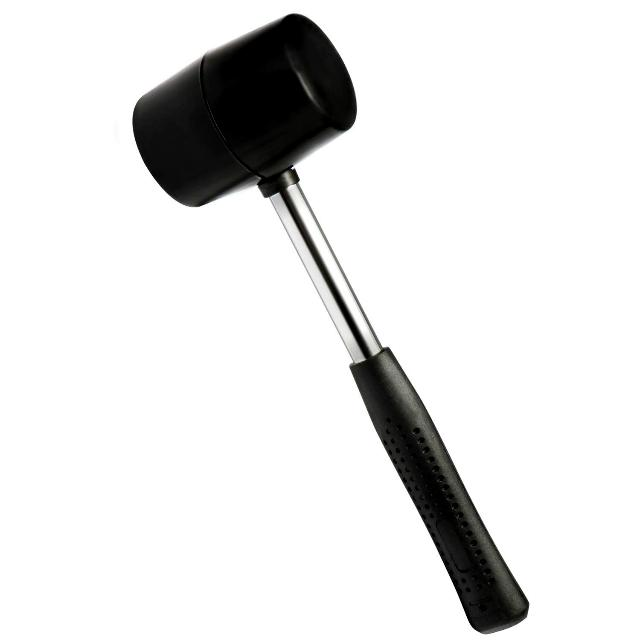hammer: (121, 5, 539, 640)
